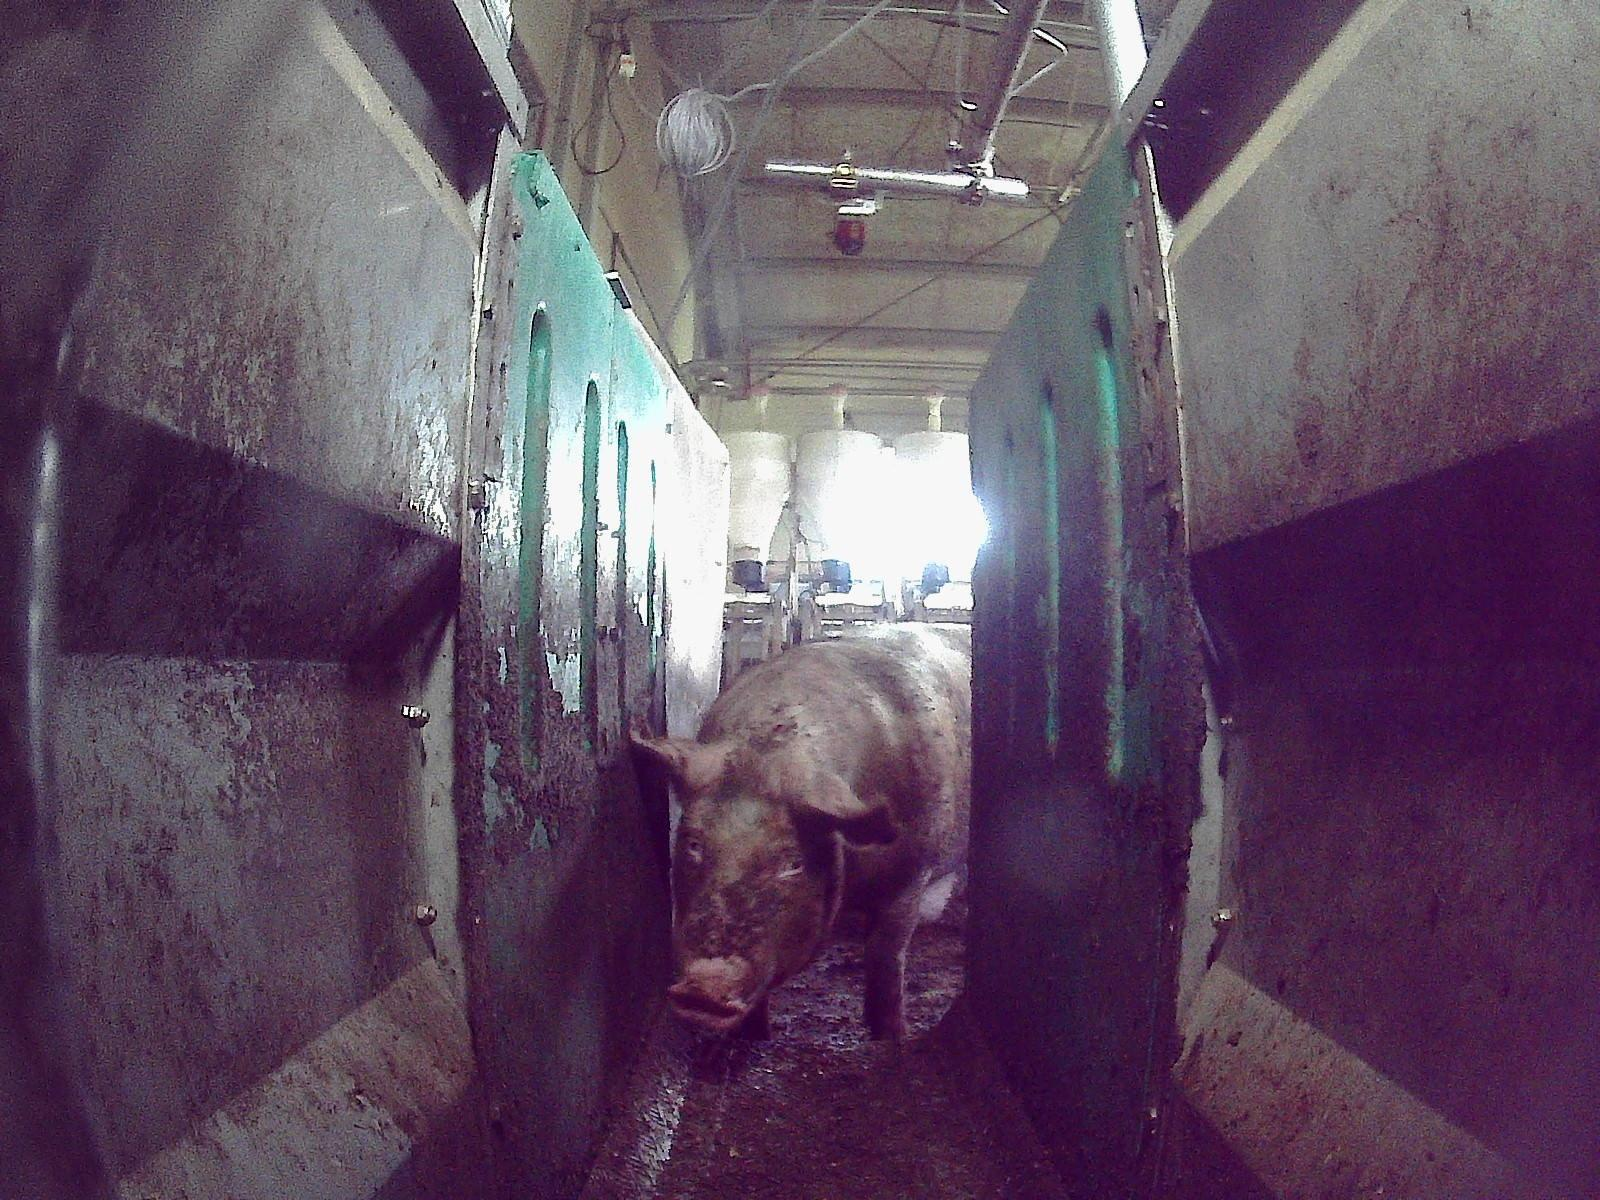Face: (663, 743, 847, 1033)
